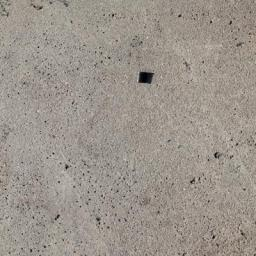FOD: (136, 69, 156, 88)
